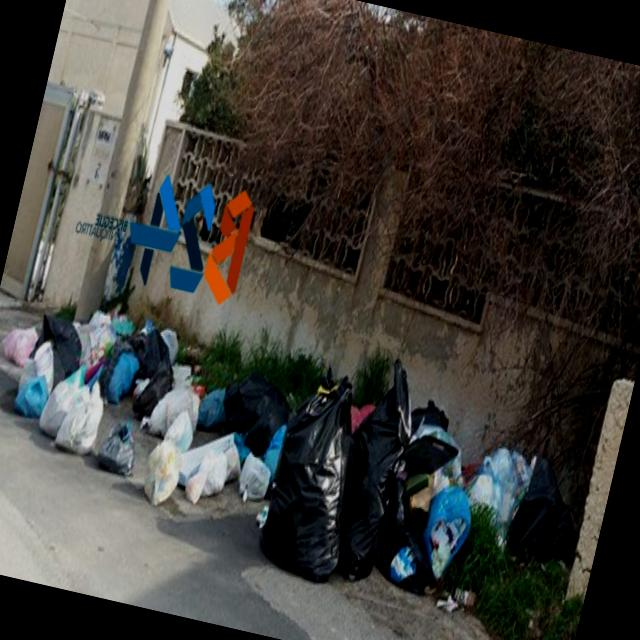garbage: (0, 257, 605, 635)
